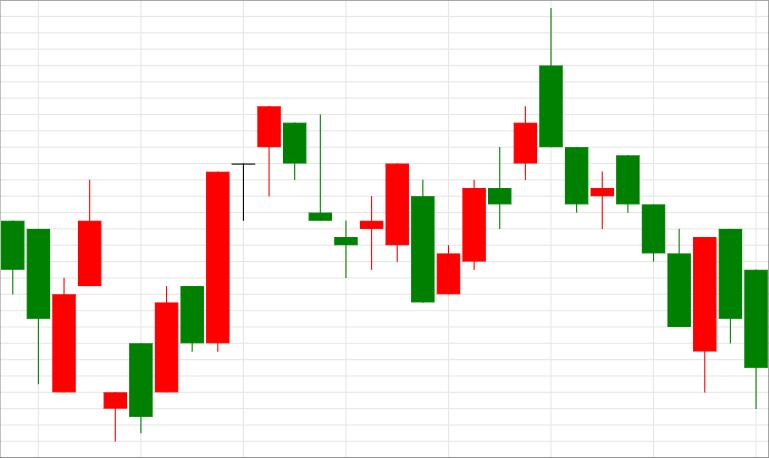bullish_engulfing_rise: (539, 8, 716, 392)
hanging_man_fall: (154, 106, 281, 393)
